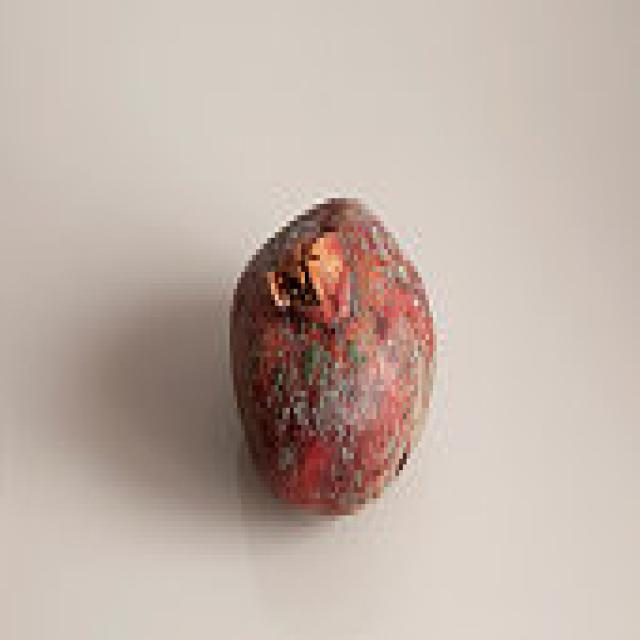Rotten: (230, 194, 436, 516)
